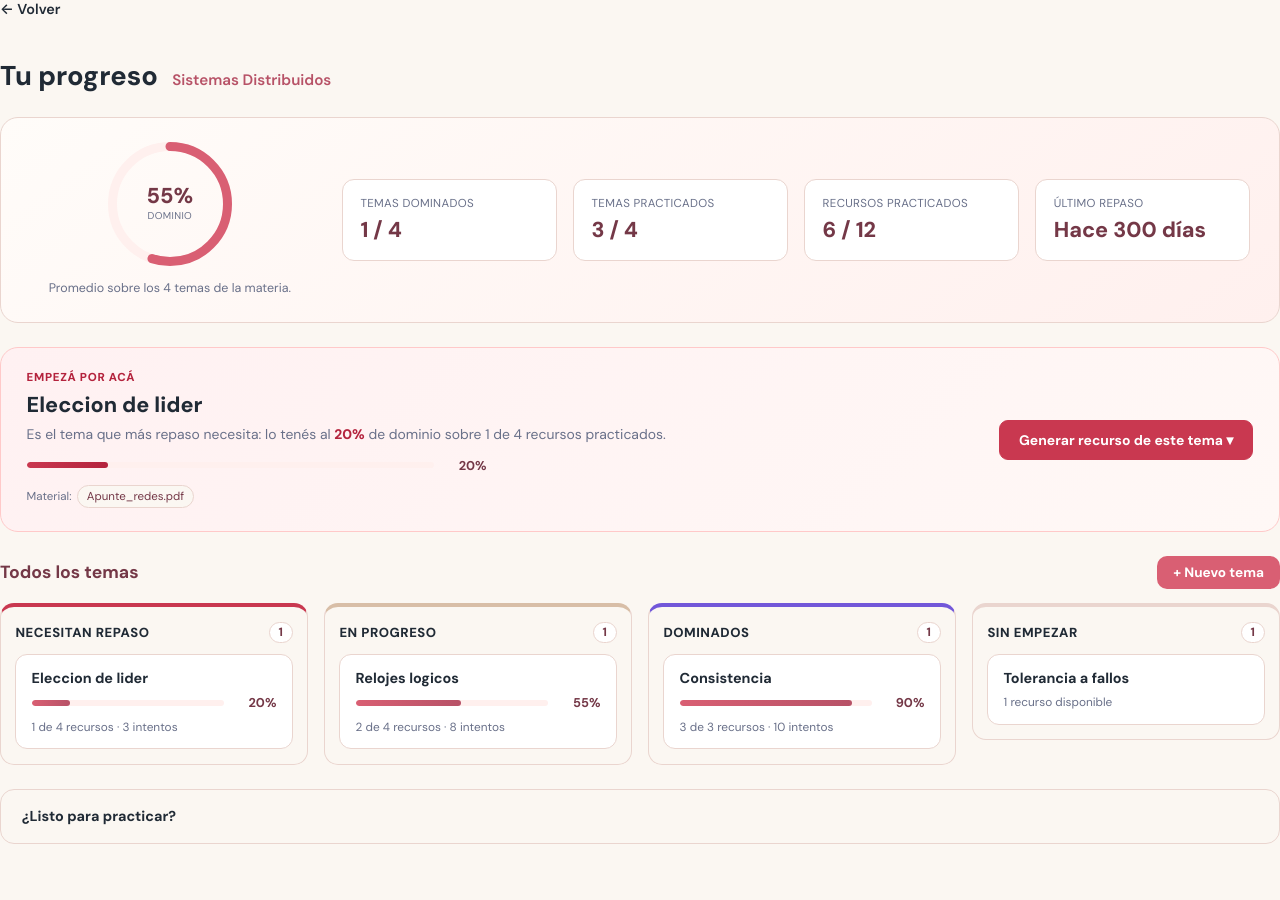
Scenario: ProgressPage: crear un tema a mano › muestra en el modal el error de un nombre repetido
The image size is (1280, 900).
Click the button "+ Nuevo tema" at x=1219, y=572, box 1157,556 -> 1279,589
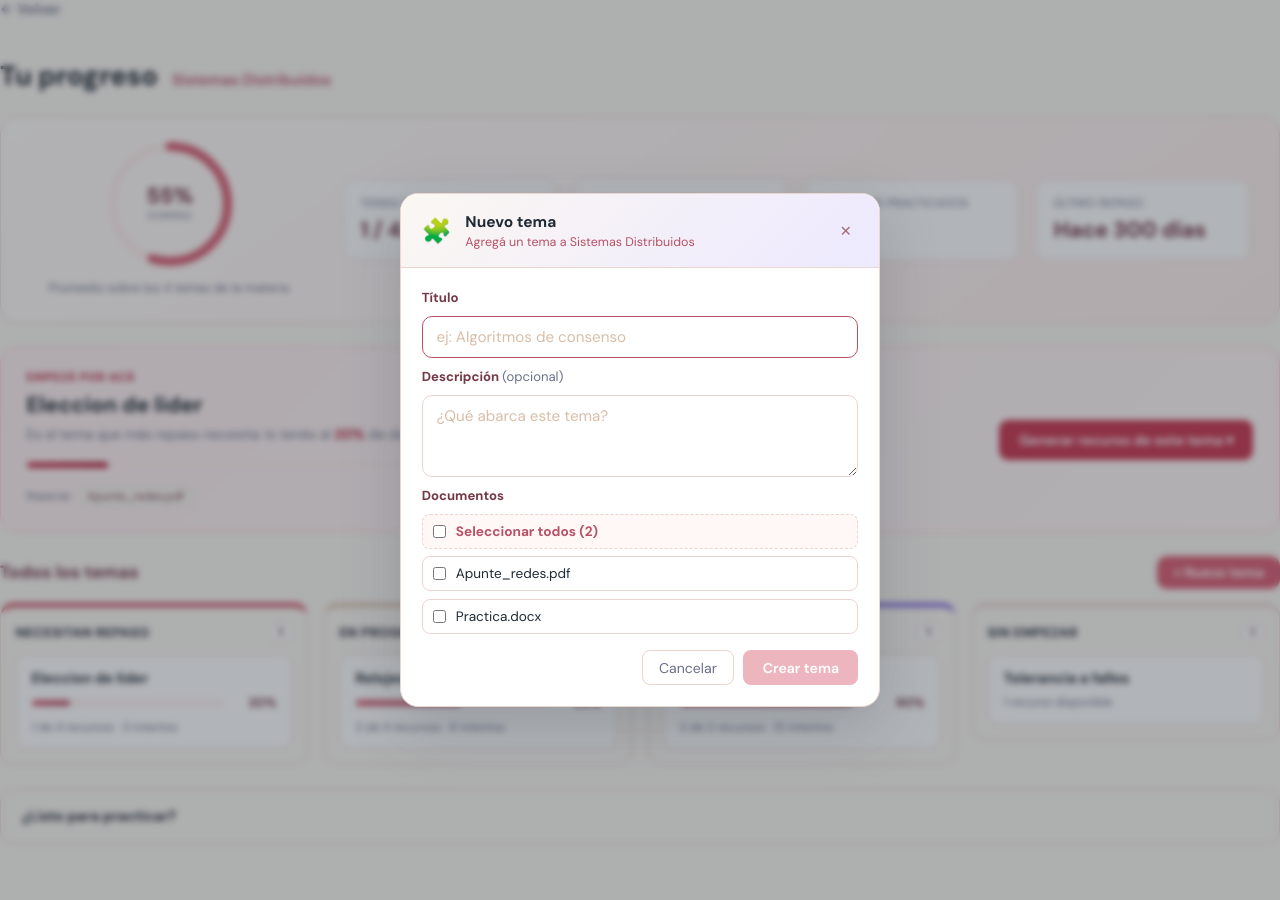
Type "consistencia" into the field labelled "Título" at x=640, y=337, box 422,316 -> 858,358
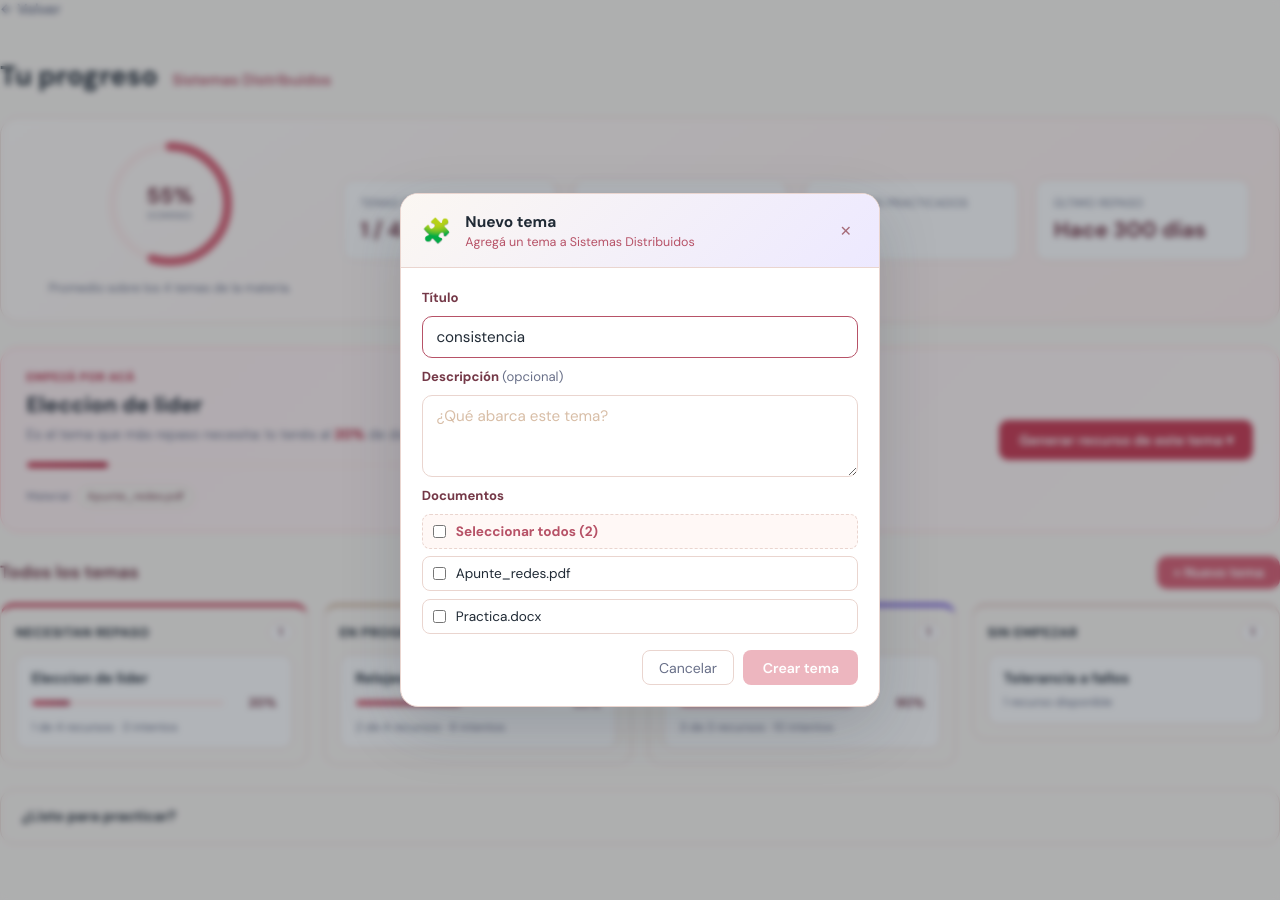
Click the checkbox labelled "Apunte_redes.pdf" at x=440, y=574, box 433,568 -> 446,580
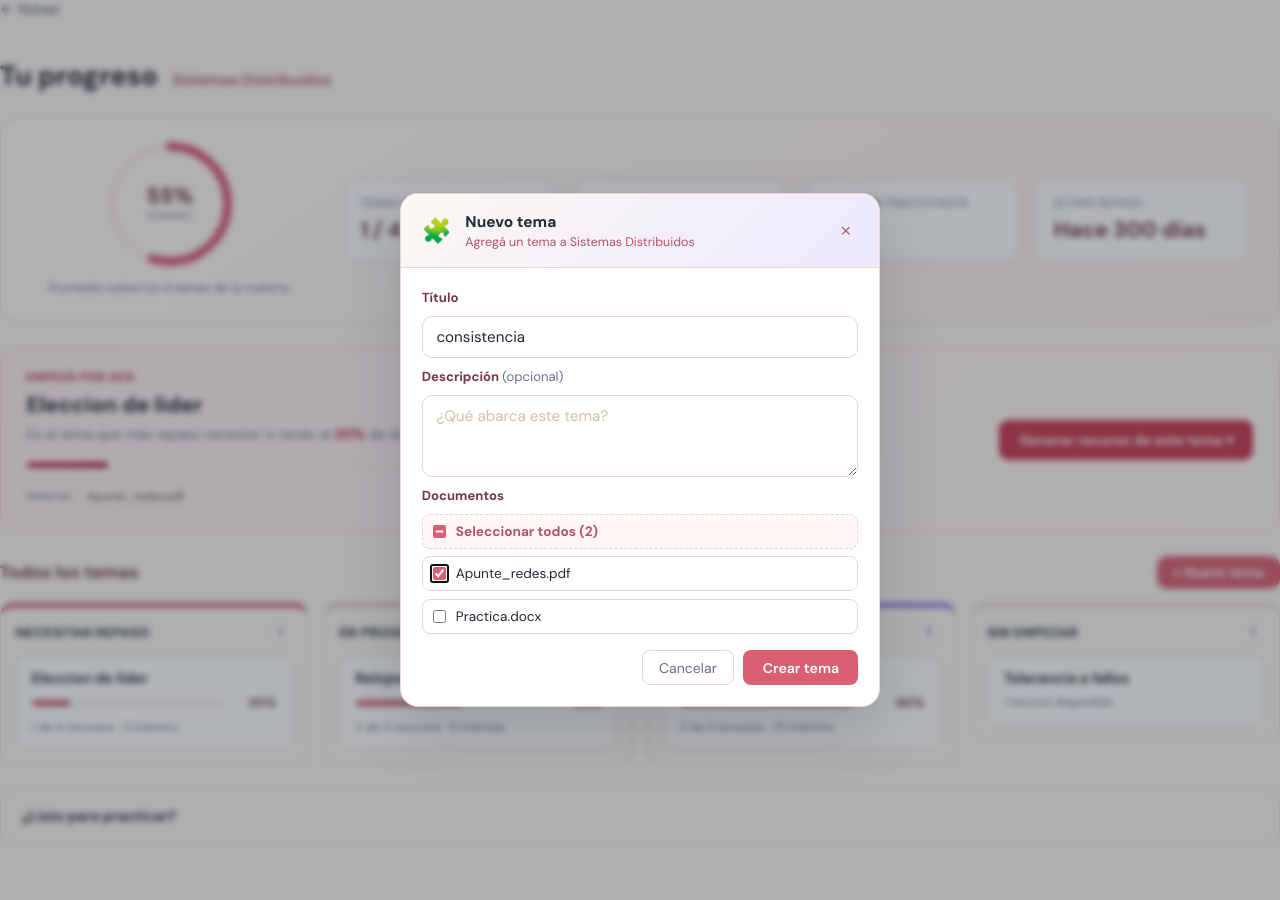
Click the button "Crear tema" at x=801, y=668, box 744,650 -> 858,685
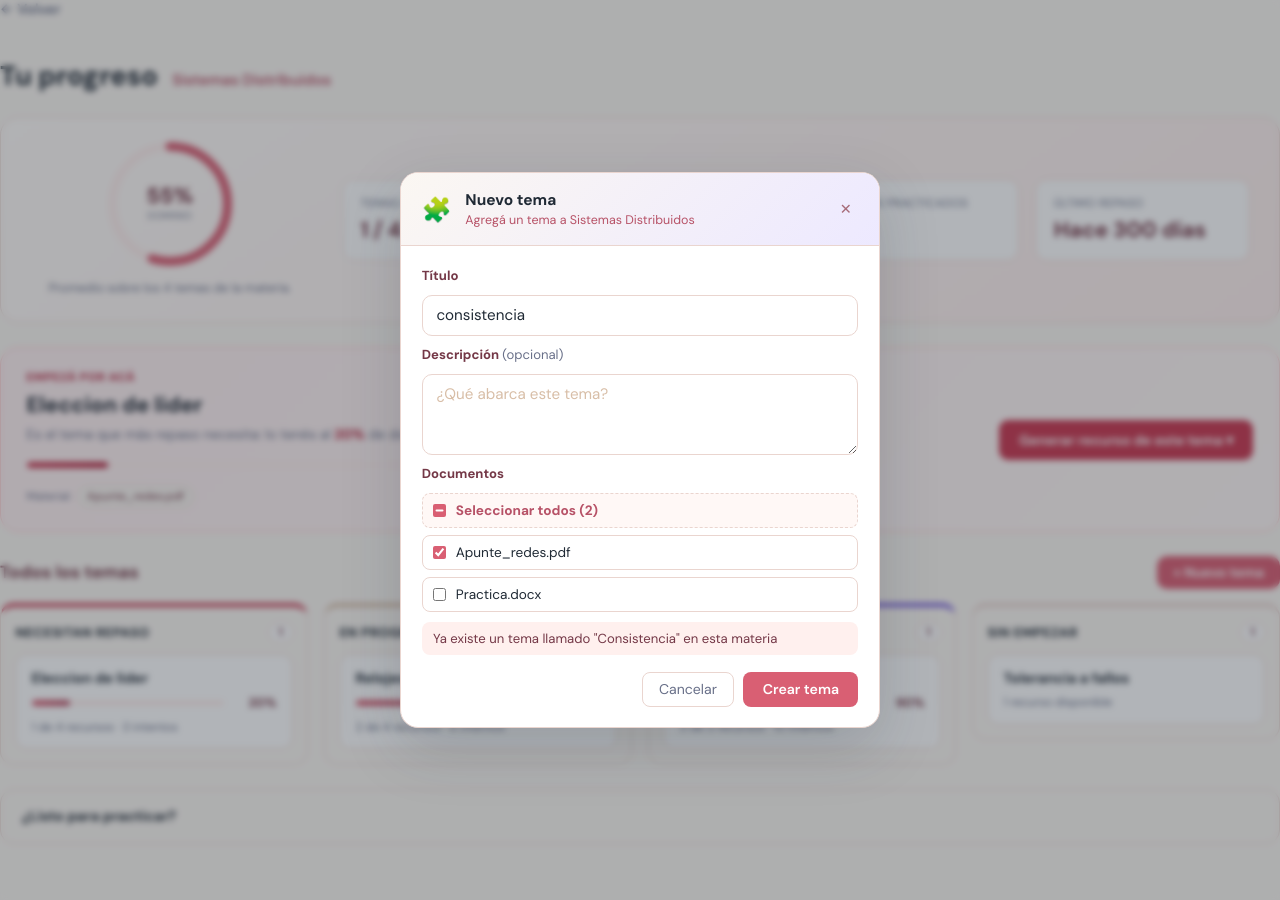
Expected: the dialog is shown, 400,172 -> 880,728
Expected: the message shows "Ya existe un tema llamado \"Consistencia\"", 433,630 -> 777,647
